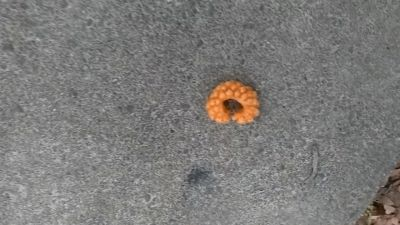eggs: (205, 79, 261, 128)
